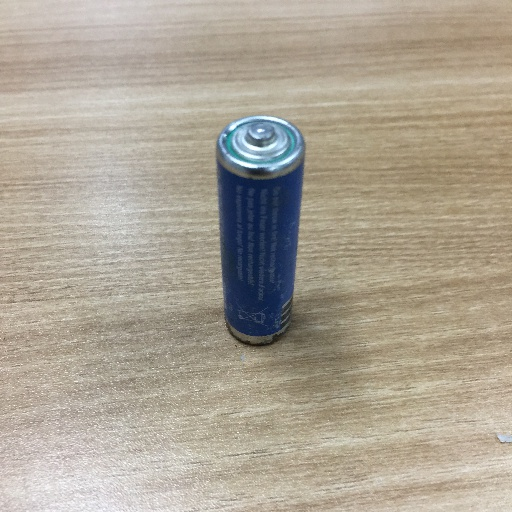Battery_0: (203, 101, 315, 357)
